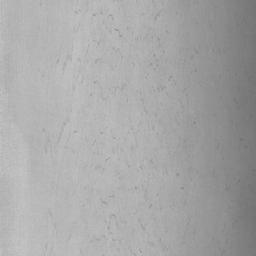Silk spot: (92, 11, 165, 79), (88, 214, 126, 251), (56, 40, 101, 71), (95, 139, 137, 171), (45, 119, 77, 153), (90, 80, 126, 100), (135, 184, 162, 210), (152, 76, 176, 96)
